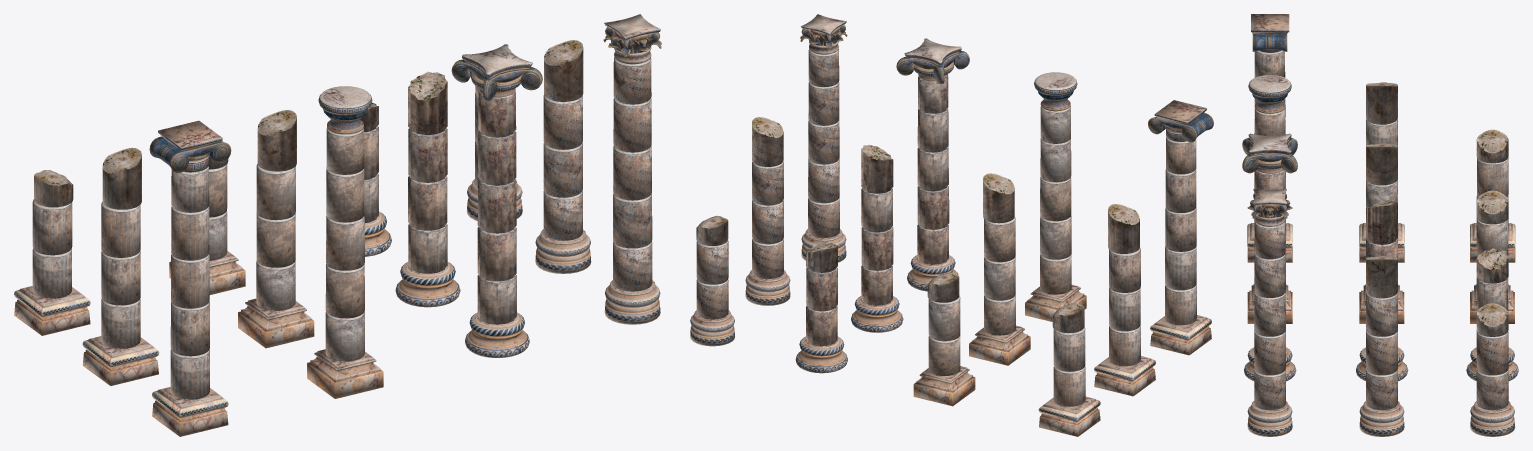
The model's file is modular_columns_library.glb.
3 views of the same model, side by side, from view 1: azimuth 30°, elevation 25°; view 2: azimuth 150°, elevation 25°; view 3: azimuth 270°, elevation 25° (orthographic). The views are drawn at different scales.
Visible parts, largest first — view 1: prefab_column_ionic_1_LOD0, prefab_column_scamozzi_1_LOD0, prefab_column_tuscan_1_LOD0, prefab_column_corinthian_1_LOD0, prefab_column_ionic_2_LOD0, prefab_column_tuscan_2_LOD0, prefab_column_scamozzi_2_LOD0, prefab_column_corinthian_2_LOD0, prefab_column_ionic_3_LOD0, prefab_column_tuscan_3_LOD0, prefab_column_scamozzi_3_LOD0, prefab_column_corinthian_3_LOD0; view 2: prefab_column_ionic_1_LOD0, prefab_column_scamozzi_1_LOD0, prefab_column_tuscan_1_LOD0, prefab_column_corinthian_1_LOD0, prefab_column_ionic_2_LOD0, prefab_column_tuscan_2_LOD0, prefab_column_scamozzi_2_LOD0, prefab_column_corinthian_2_LOD0, prefab_column_ionic_3_LOD0, prefab_column_tuscan_3_LOD0, prefab_column_scamozzi_3_LOD0, prefab_column_corinthian_3_LOD0; view 3: prefab_column_corinthian_1_LOD0, prefab_column_corinthian_2_LOD0, prefab_column_corinthian_3_LOD0, prefab_column_scamozzi_1_LOD0, prefab_column_ionic_1_LOD0, prefab_column_tuscan_1_LOD0, prefab_column_ionic_3_LOD0, prefab_column_ionic_2_LOD0, prefab_column_tuscan_3_LOD0, prefab_column_tuscan_2_LOD0, prefab_column_scamozzi_3_LOD0, prefab_column_scamozzi_2_LOD0.
Boxes of the visible parts, x1,y1,x2,y2 form: prefab_column_ionic_1_LOD0: (149,120,231,436); prefab_column_scamozzi_1_LOD0: (451,44,542,357); prefab_column_tuscan_1_LOD0: (307,86,383,398); prefab_column_corinthian_1_LOD0: (603,14,661,324); prefab_column_ionic_2_LOD0: (82,147,159,385); prefab_column_tuscan_2_LOD0: (238,110,314,348); prefab_column_scamozzi_2_LOD0: (395,71,460,307); prefab_column_corinthian_2_LOD0: (535,40,591,273); prefab_column_ionic_3_LOD0: (14,170,90,335); prefab_column_tuscan_3_LOD0: (169,140,245,294); prefab_column_scamozzi_3_LOD0: (360,102,391,256); prefab_column_corinthian_3_LOD0: (466,86,522,220); prefab_column_ionic_1_LOD0: (1148,100,1213,355); prefab_column_scamozzi_1_LOD0: (896,38,969,291); prefab_column_tuscan_1_LOD0: (1025,72,1086,321); prefab_column_corinthian_1_LOD0: (800,14,847,262); prefab_column_ionic_2_LOD0: (1094,204,1155,396); prefab_column_tuscan_2_LOD0: (969,173,1030,365); prefab_column_scamozzi_2_LOD0: (851,144,903,332); prefab_column_corinthian_2_LOD0: (745,117,790,305); prefab_column_ionic_3_LOD0: (1038,303,1100,436); prefab_column_tuscan_3_LOD0: (913,272,975,406); prefab_column_scamozzi_3_LOD0: (795,242,847,373); prefab_column_corinthian_3_LOD0: (690,215,734,346); prefab_column_corinthian_1_LOD0: (1247,189,1292,436); prefab_column_corinthian_2_LOD0: (1359,256,1404,436); prefab_column_corinthian_3_LOD0: (1470,303,1515,436); prefab_column_scamozzi_1_LOD0: (1242,133,1297,381); prefab_column_ionic_1_LOD0: (1247,14,1292,262); prefab_column_tuscan_1_LOD0: (1247,75,1292,323); prefab_column_ionic_3_LOD0: (1470,129,1515,262); prefab_column_ionic_2_LOD0: (1359,82,1404,262); prefab_column_tuscan_3_LOD0: (1470,190,1514,323); prefab_column_tuscan_2_LOD0: (1359,143,1404,323); prefab_column_scamozzi_3_LOD0: (1466,248,1518,381); prefab_column_scamozzi_2_LOD0: (1356,200,1408,381).
Size of the model in its own units: 21.73 by 11.99 by 12.98.
Materials: 1 (1 with a texture image).
